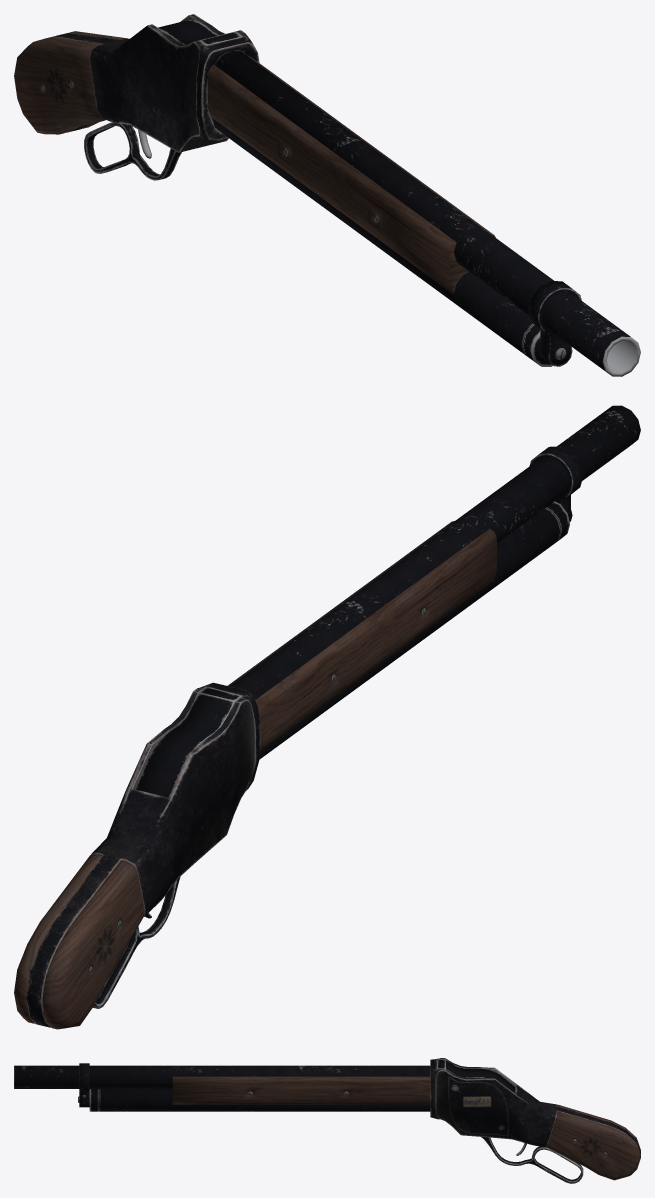
The model's file is winchesterS - anim.fbx.
The picture shows the model from 3 angles, top to bottom: view 1: azimuth 30°, elevation 25°; view 2: azimuth 150°, elevation 25°; view 3: azimuth 270°, elevation 25°; orthographic projection. The views are drawn at different scales.
Visible parts, largest first — view 1: Cylinder.041; view 2: Cylinder.041; view 3: Cylinder.041.
Part boxes in pixels (x1,y1,x2,y2): Cylinder.041: (14, 14, 640, 376); Cylinder.041: (14, 405, 640, 1029); Cylinder.041: (14, 1058, 640, 1183).
Size of the model in its own units: 50.81 by 180 by 862.
